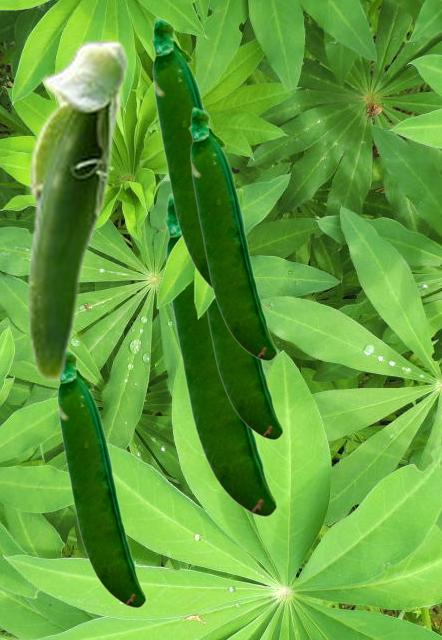pea: (163, 192, 276, 516), (26, 39, 129, 382), (56, 350, 145, 607), (188, 106, 276, 360), (150, 16, 211, 289), (206, 300, 282, 439)
